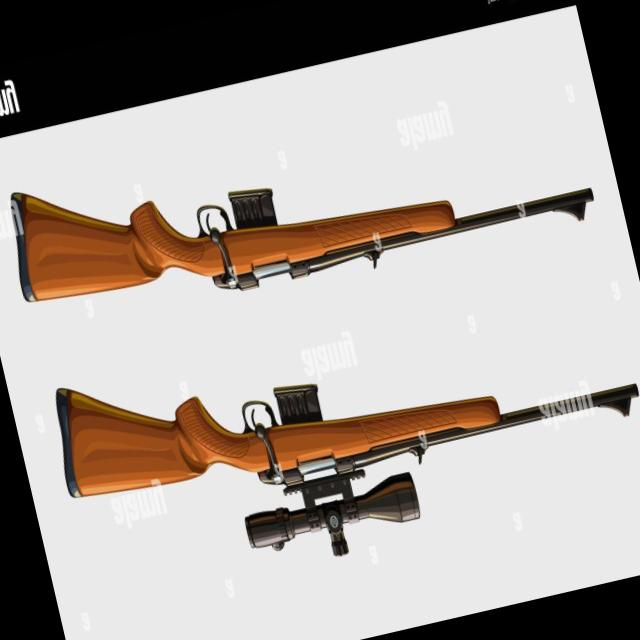Weapon: (39, 244, 640, 619), (0, 51, 605, 352)
